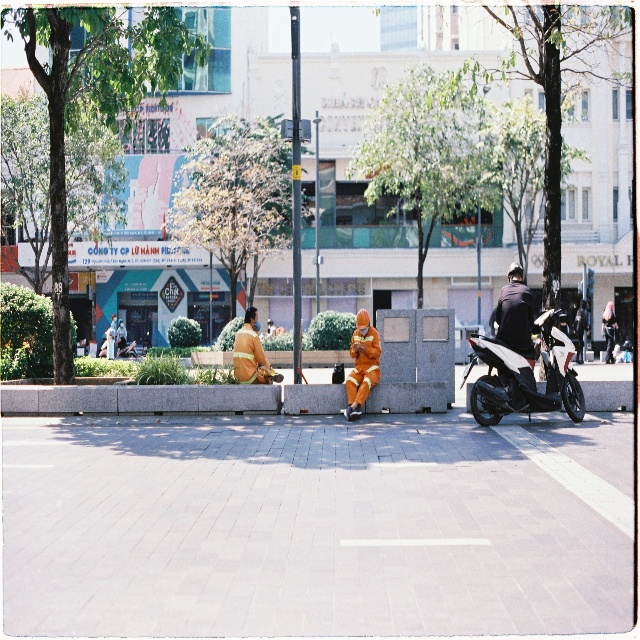Mascara: (251, 319, 260, 332), (359, 325, 369, 336)
Sin_guantes: (358, 342, 367, 354), (352, 342, 359, 353)
